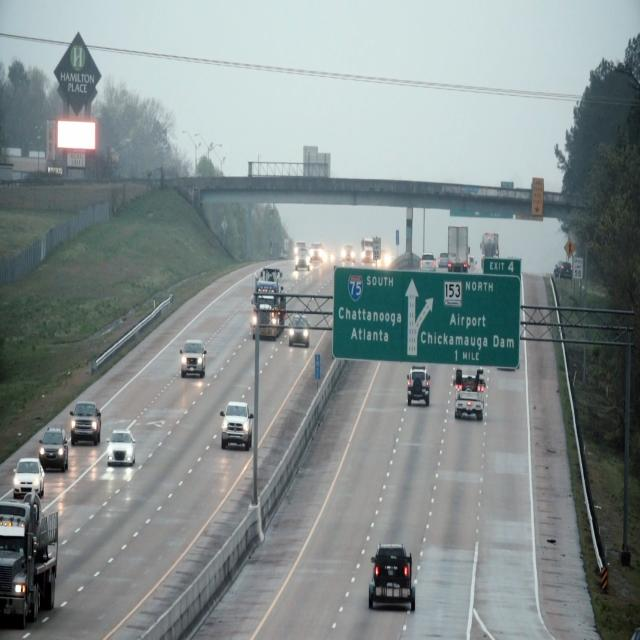Car: (0, 508, 59, 625), (368, 542, 416, 616), (250, 264, 287, 340), (216, 402, 256, 449), (453, 366, 486, 422), (10, 456, 46, 499), (70, 398, 102, 442), (178, 339, 210, 380), (106, 428, 138, 468), (404, 364, 434, 406), (39, 428, 67, 469), (287, 313, 312, 348)
